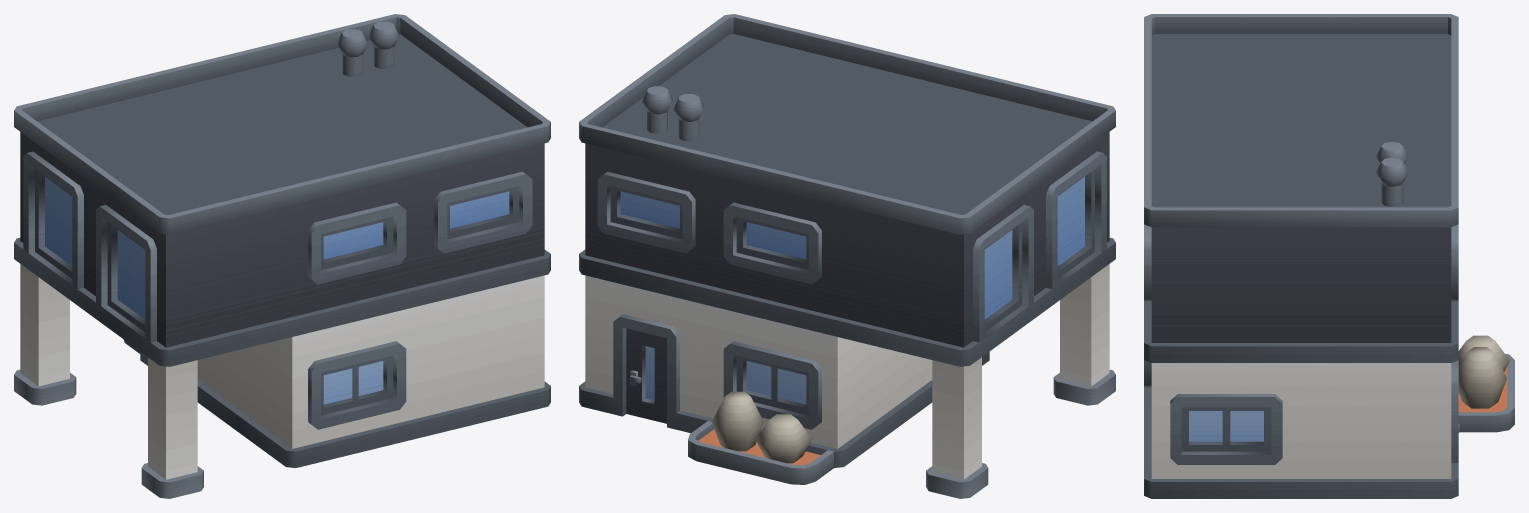
Rendered from sub-building-type-p.glb.
3 views of the same model, side by side, from view 1: azimuth 30°, elevation 25°; view 2: azimuth 150°, elevation 25°; view 3: azimuth 270°, elevation 25° (orthographic). The views are drawn at different scales.
Parts seen in each view (by area): view 1: building-type-p; view 2: building-type-p; view 3: building-type-p.
Part boxes in pixels (x1,y1,x2,y2): building-type-p: [14, 14, 550, 498]; building-type-p: [579, 14, 1115, 498]; building-type-p: [1144, 14, 1514, 498].
Size of the model in its own units: 1.24 by 0.918 by 0.9901.
1 material, 1 textured.
